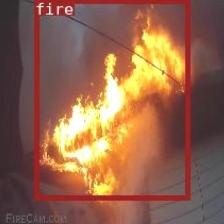fire: (34, 0, 189, 199)
